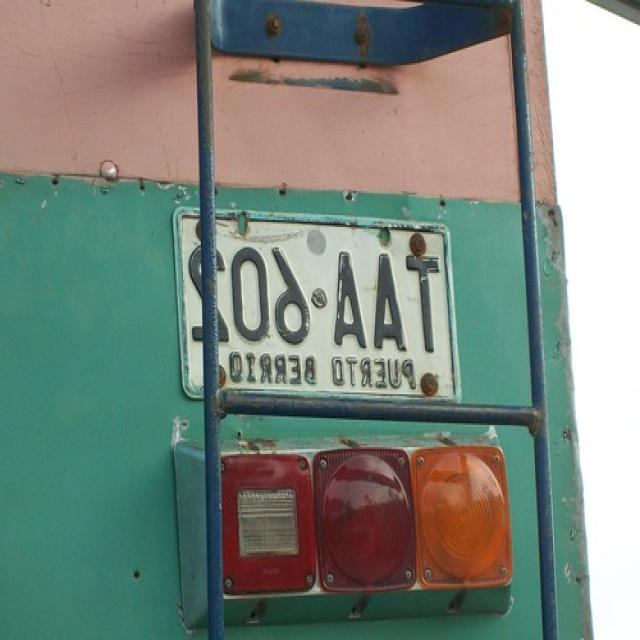placas: (174, 226, 446, 359)
